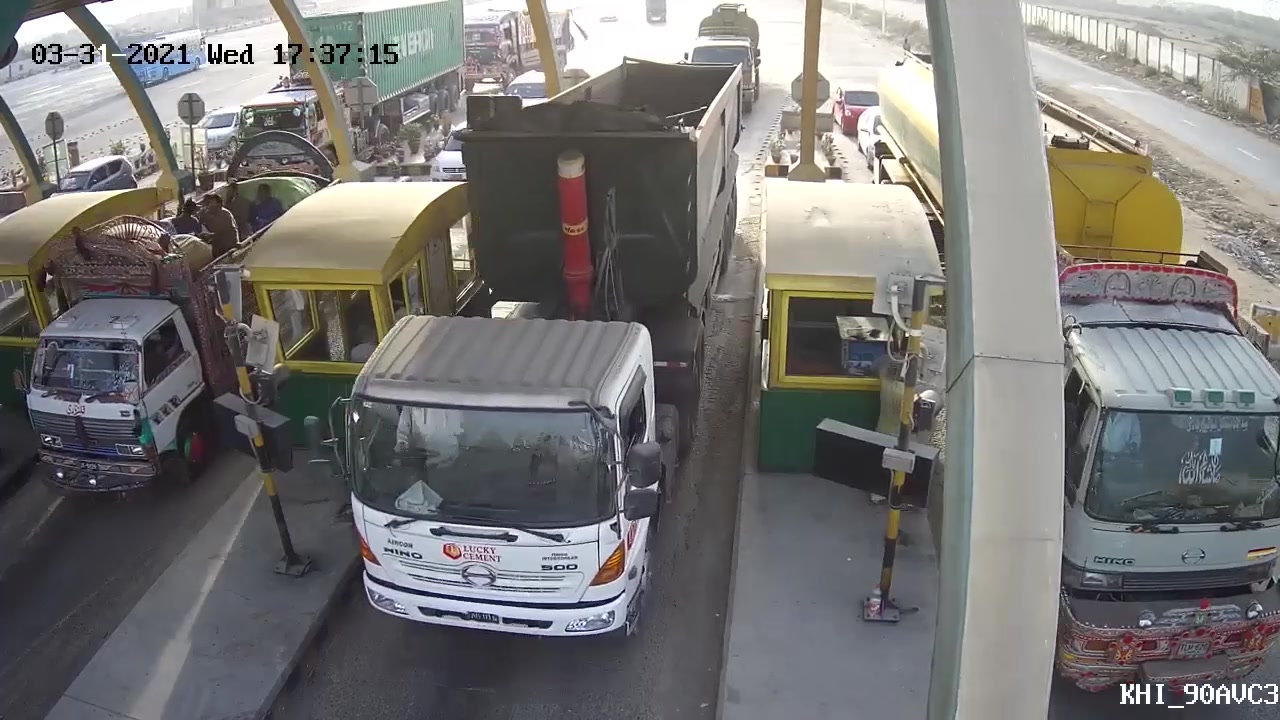F6: (344, 55, 754, 647)
